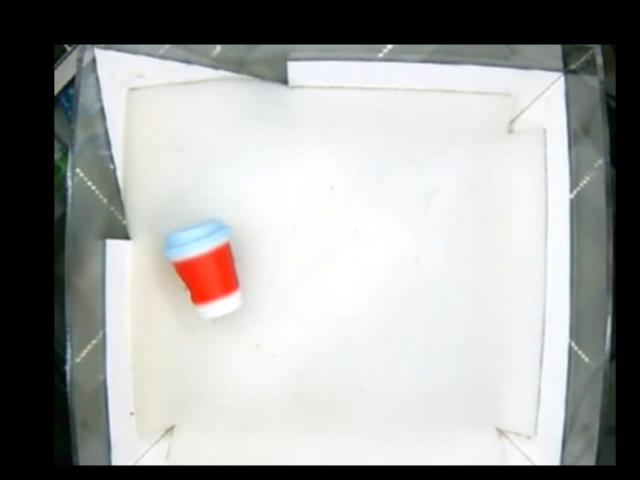Cup: (164, 218, 243, 319)
